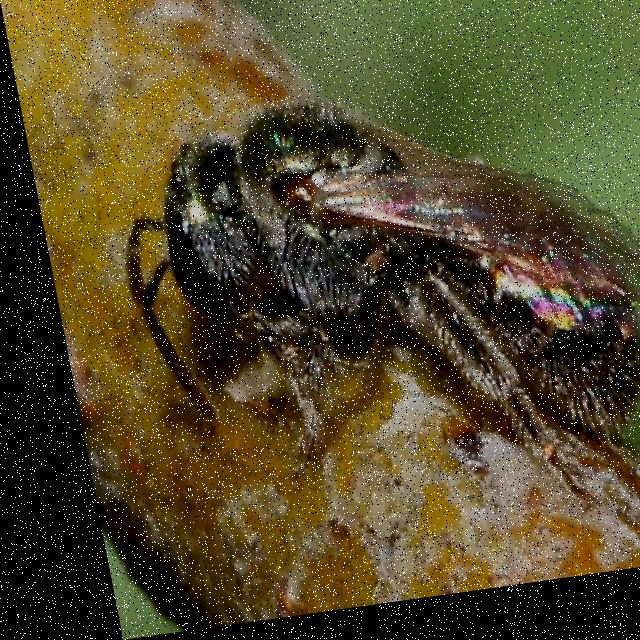Meliponula: (92, 48, 640, 547)
